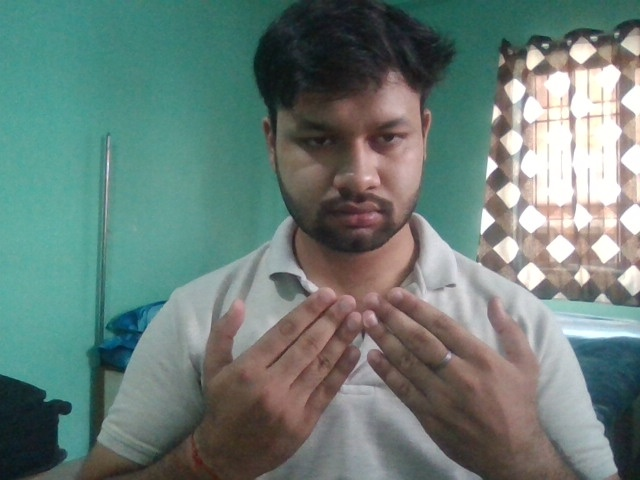Thank You: (188, 286, 552, 472)
